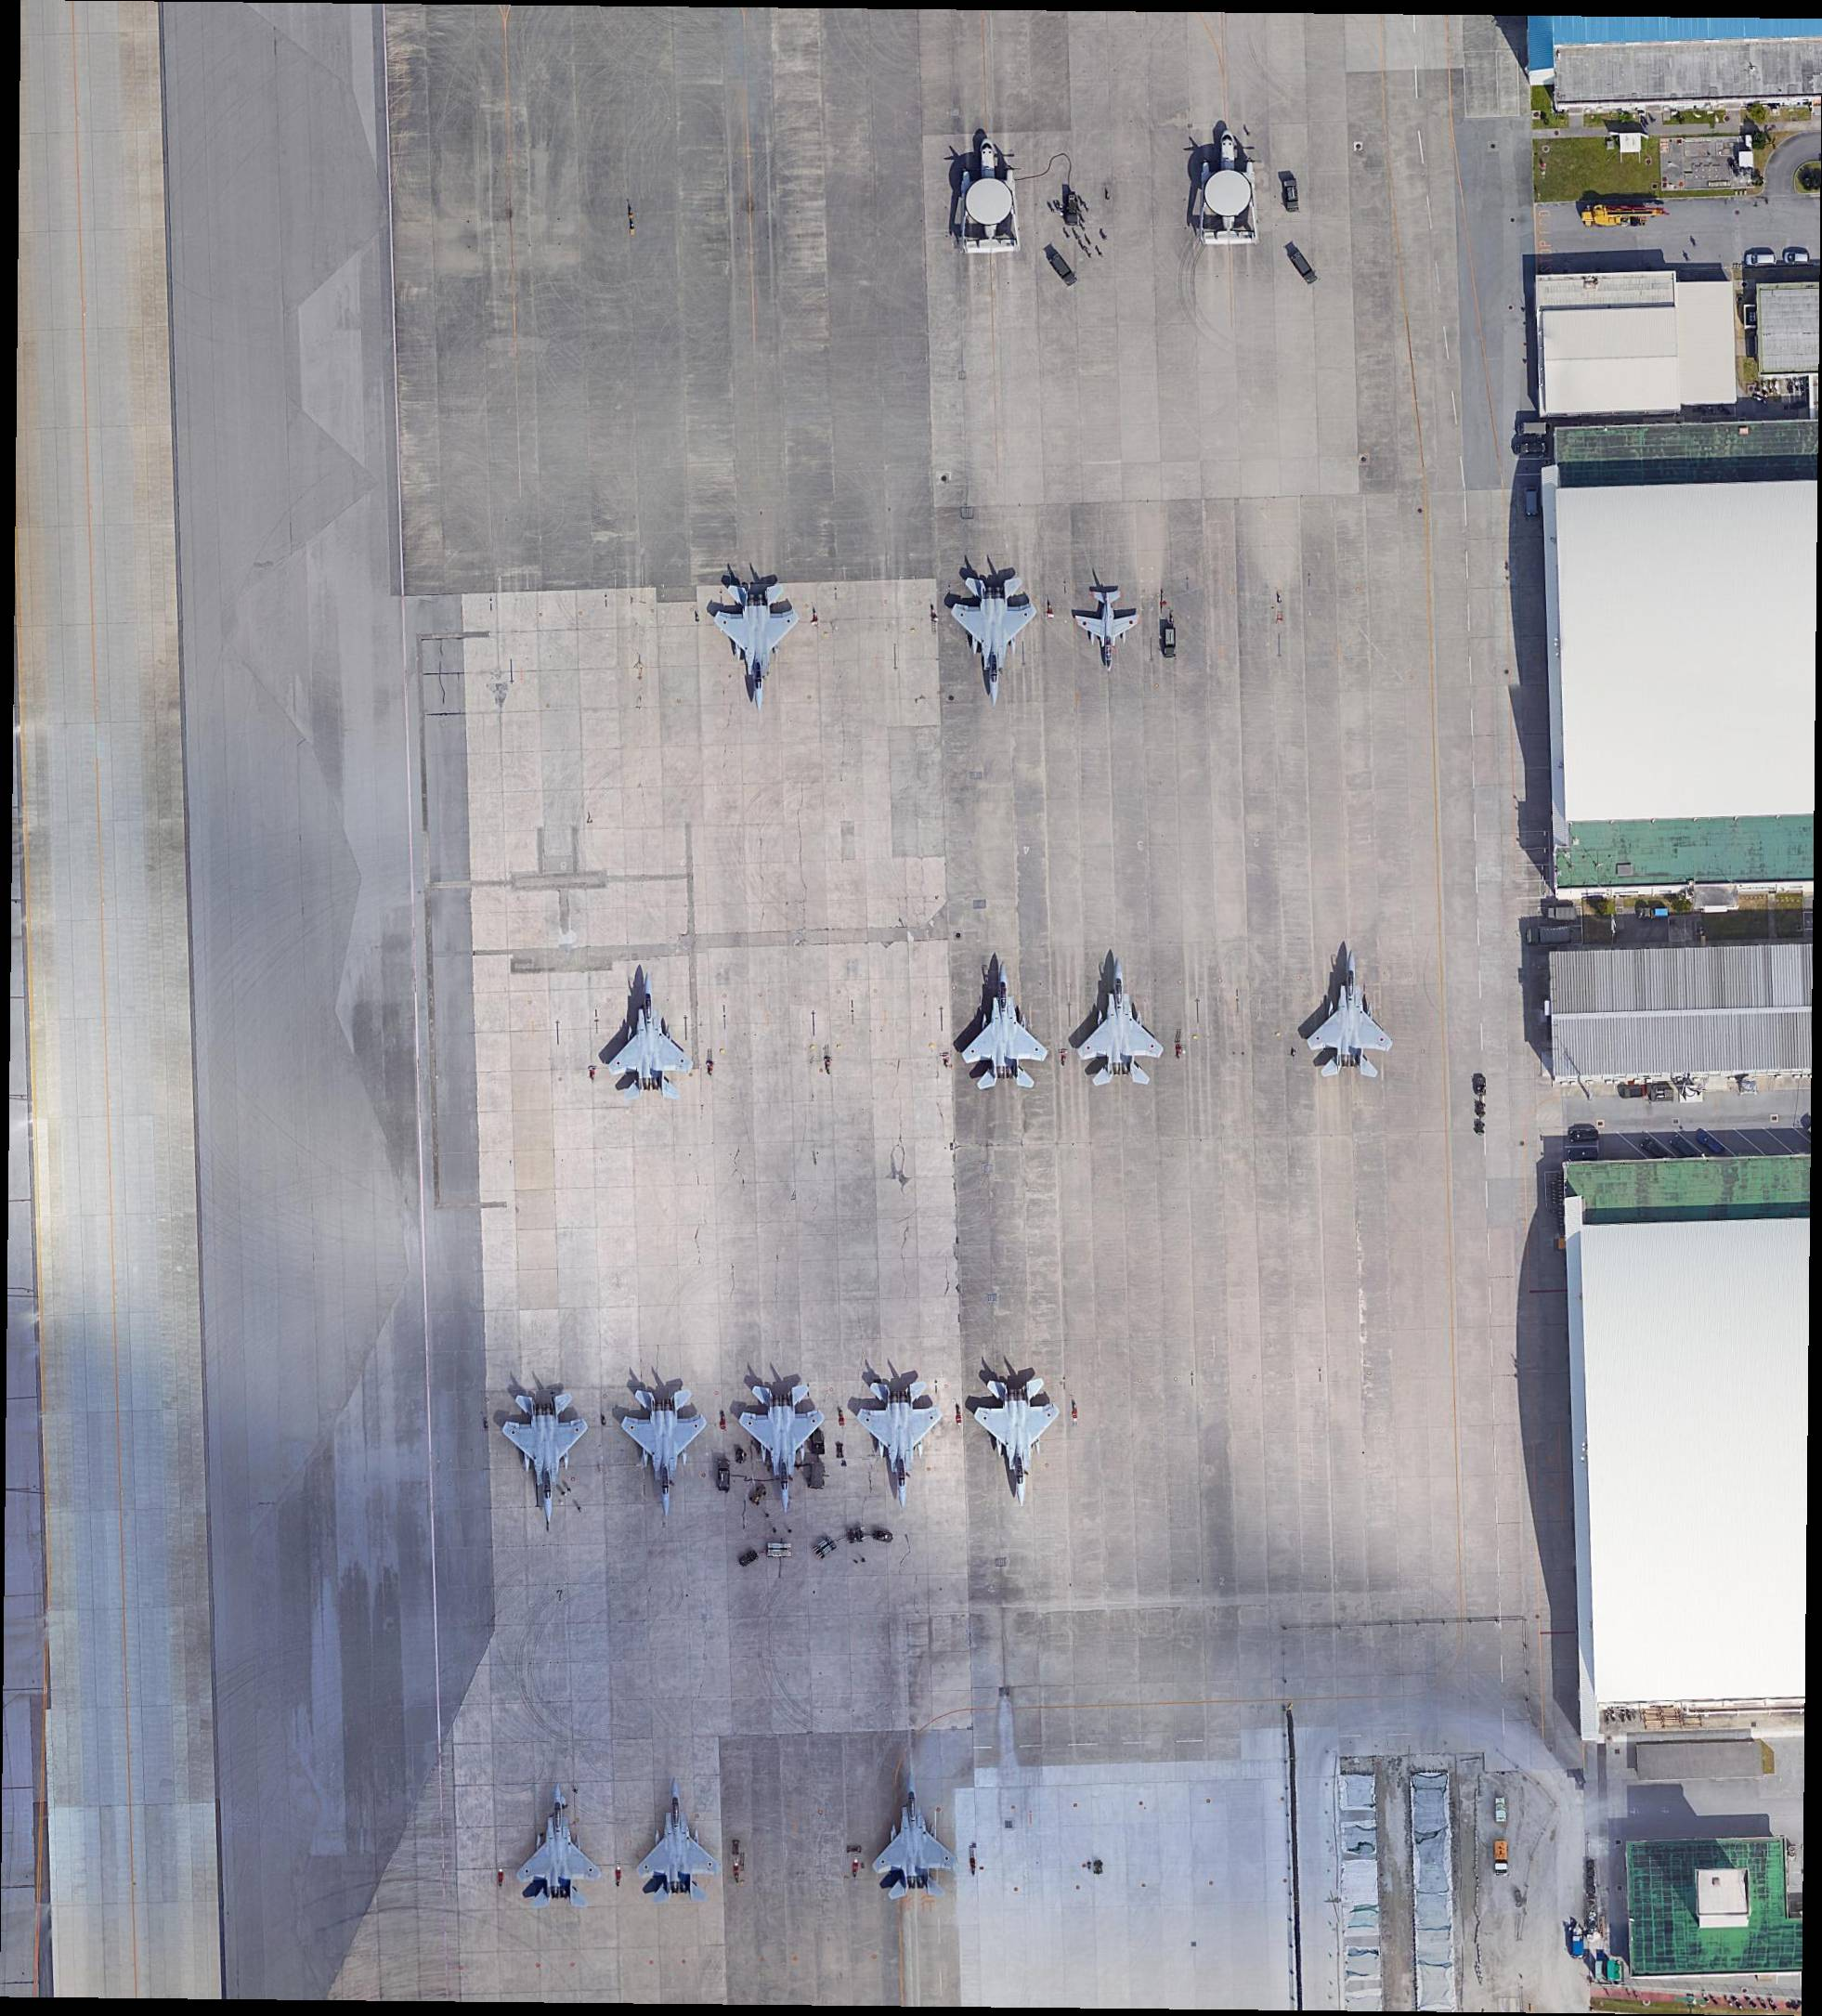plane: (933, 564, 1047, 708), (492, 1391, 599, 1531), (1293, 950, 1402, 1084), (706, 580, 805, 715), (952, 959, 1049, 1096), (617, 1391, 717, 1523), (597, 973, 694, 1103), (731, 1384, 828, 1512), (849, 1382, 947, 1507), (968, 1379, 1065, 1503), (1070, 964, 1165, 1091), (508, 1788, 604, 1909), (631, 1784, 727, 1904), (868, 1782, 963, 1902), (938, 137, 1030, 256), (1182, 130, 1265, 248), (1072, 587, 1142, 673)
